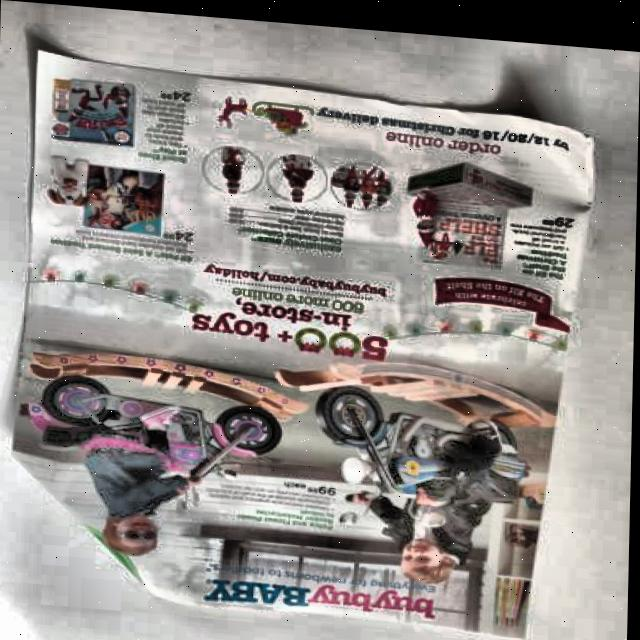paper: (7, 48, 600, 640)
